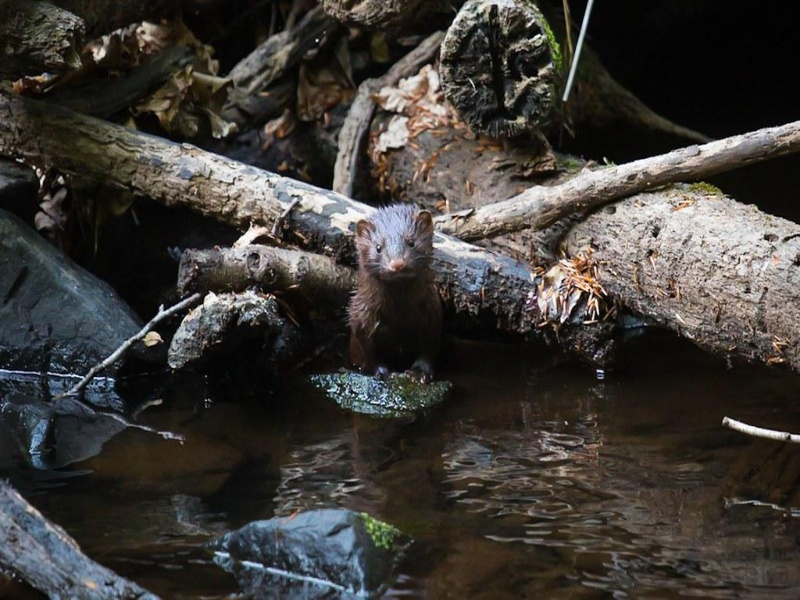minkish: (318, 203, 438, 385)
